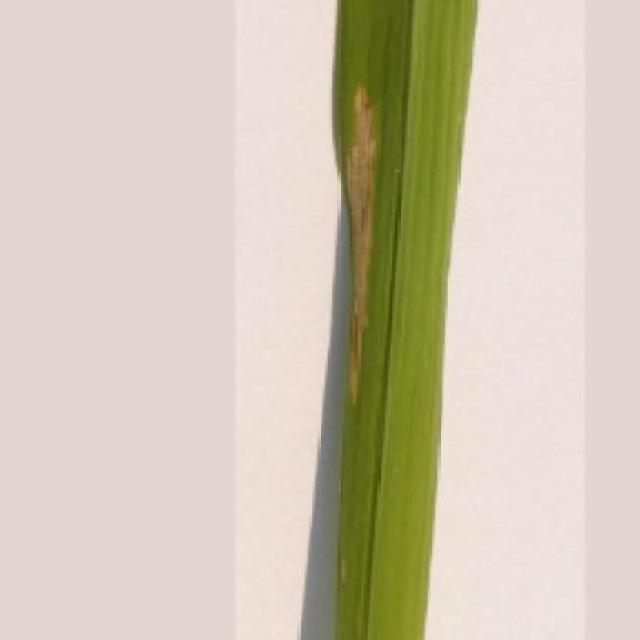Brown_Spot: (328, 0, 486, 640)
